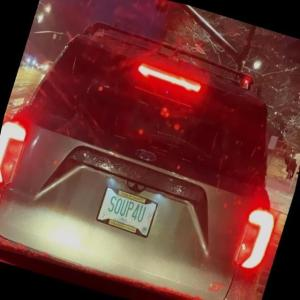Plate: (95, 184, 158, 239)
